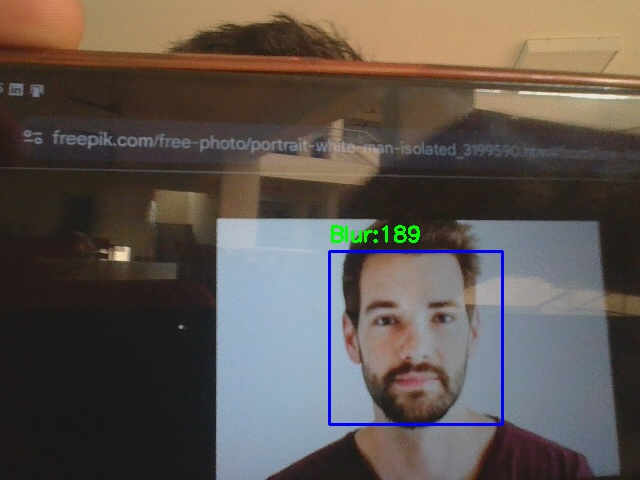fake: (329, 251, 502, 424)
